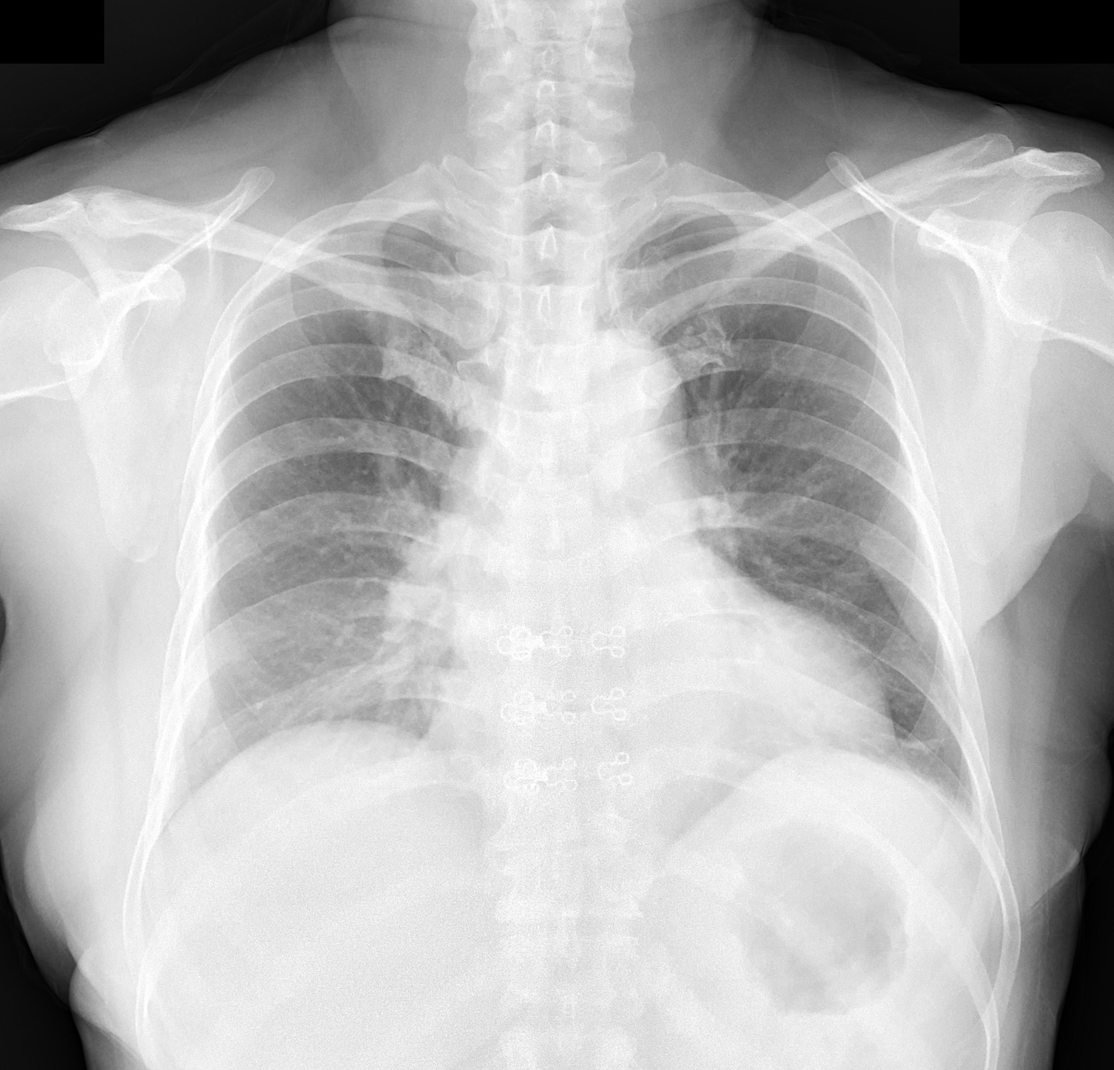Aortic enlargement: (553, 331, 688, 466)
Cardiomegaly: (422, 640, 890, 752)
Pulmonary fibrosis: (885, 728, 945, 754)
